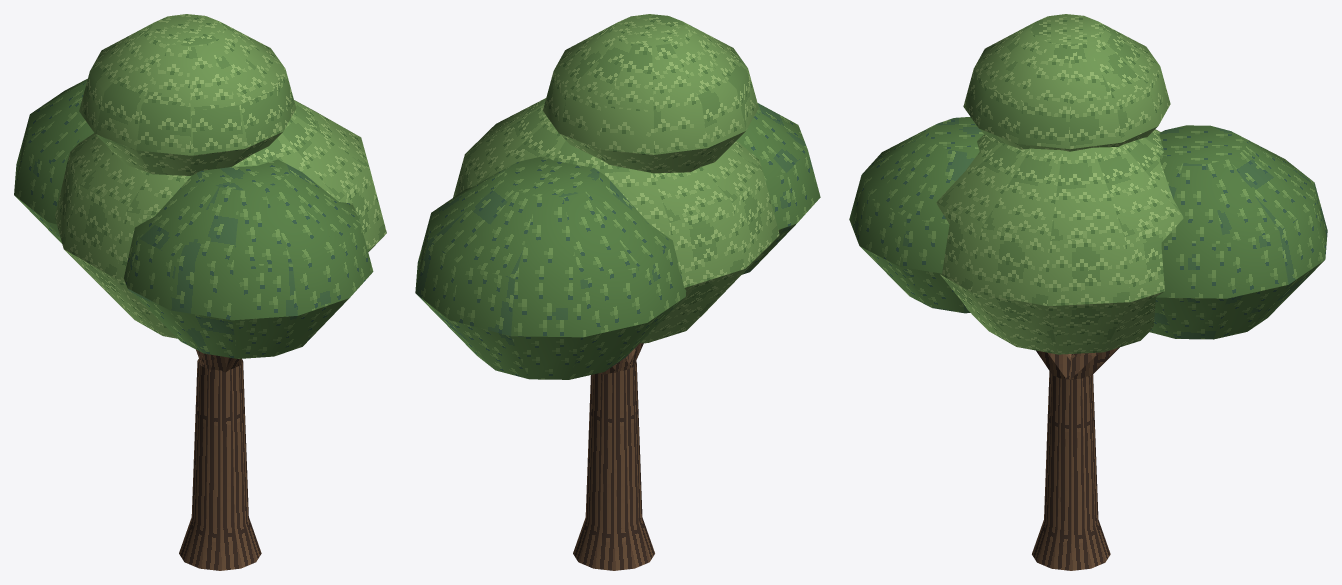
File: oak_0.glb
3 renders of one model, left to right at view 1: azimuth 30°, elevation 25°; view 2: azimuth 150°, elevation 25°; view 3: azimuth 270°, elevation 25°, orthographic. The views are drawn at different scales.
Visible parts, largest first — view 1: oak_1; view 2: oak_1; view 3: oak_1.
Boxes of the visible parts, bbox=[...] form: oak_1: bbox=[14, 14, 386, 570]; oak_1: bbox=[415, 14, 820, 570]; oak_1: bbox=[849, 14, 1327, 570].
Bounding box in the file's own units: 2.48 × 4.38 × 3.73.
Materials: 3 (3 with a texture image).
